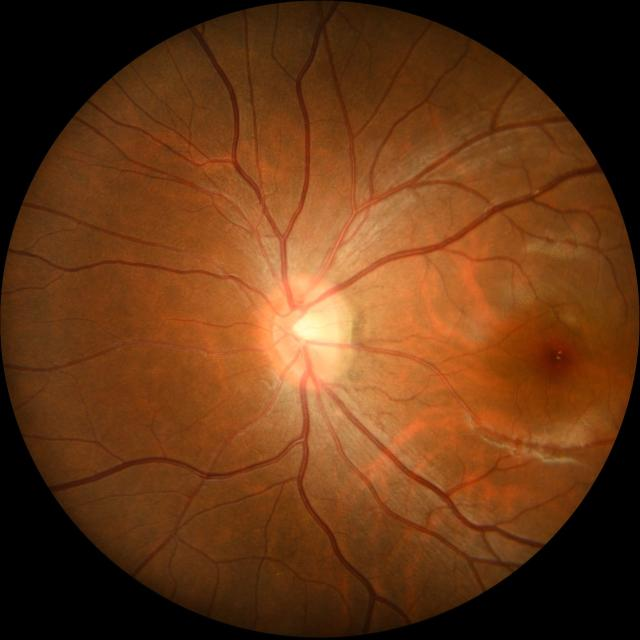OC: (292, 307, 331, 345)
OD: (269, 285, 350, 383)
